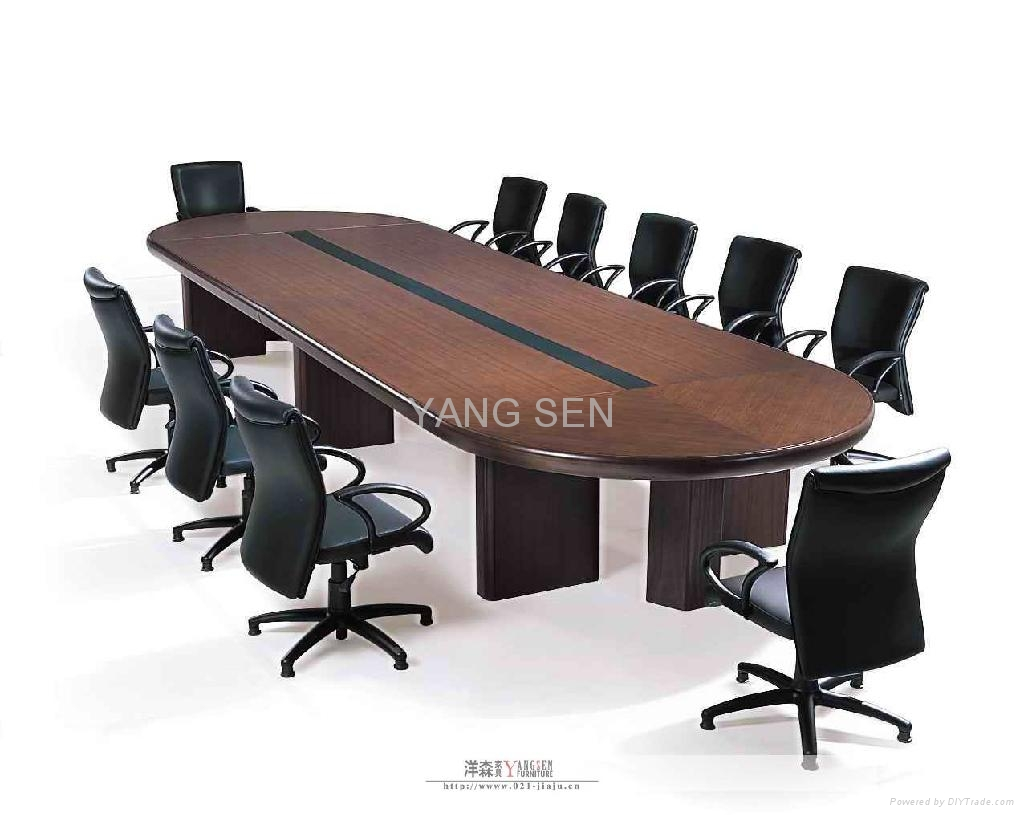conference_table: (147, 211, 874, 611)
